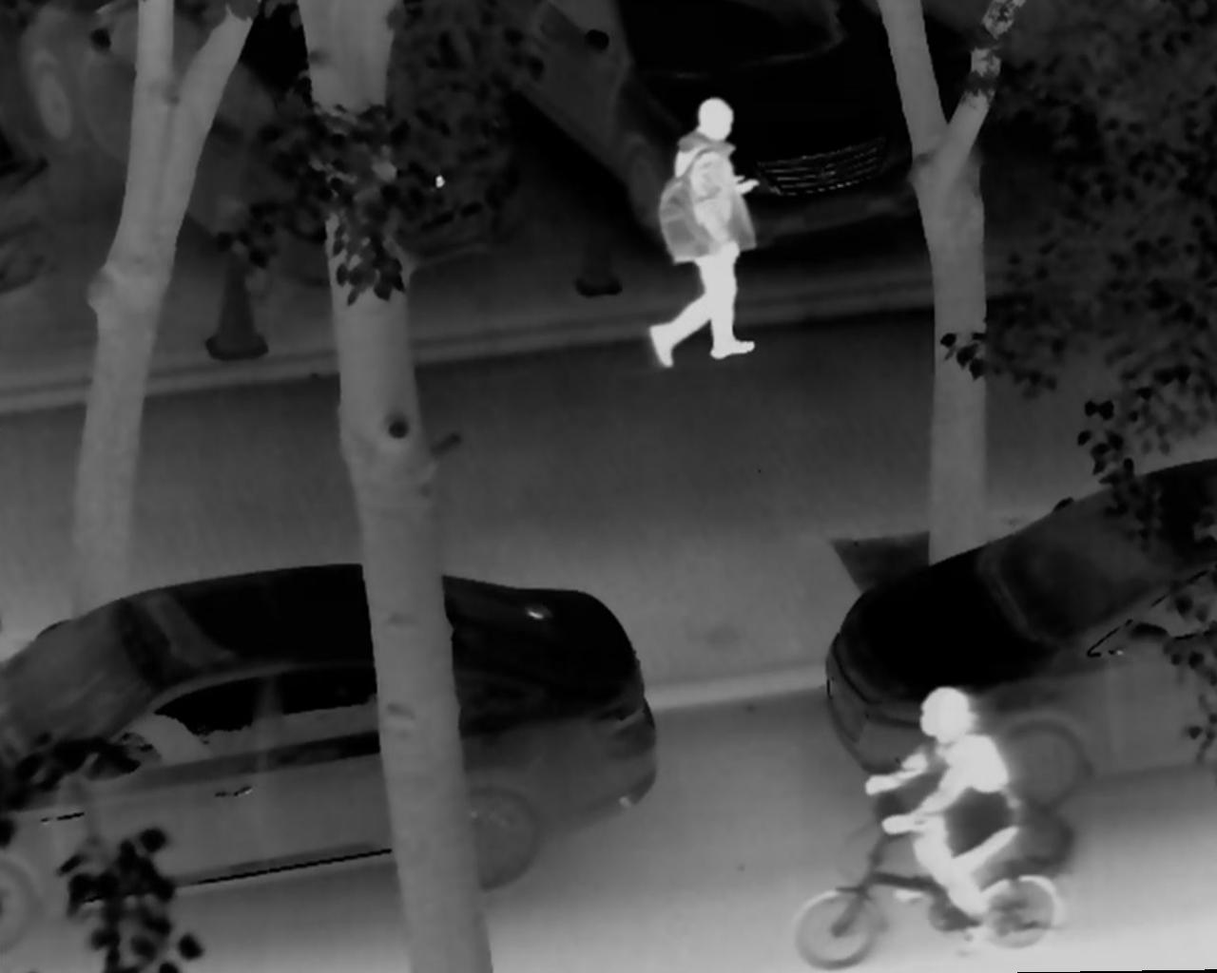person: (864, 685, 1023, 957), (647, 97, 763, 367)
